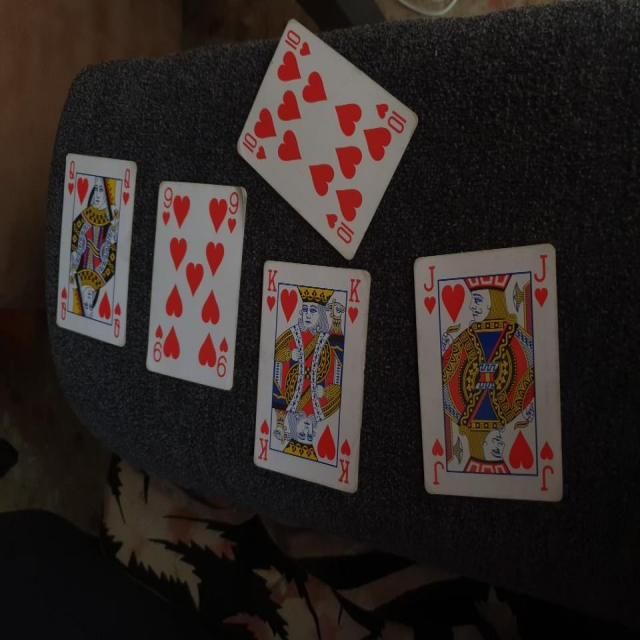10 Hearts: (224, 7, 422, 256)
9 Hearts: (138, 177, 258, 396)
J Hearts: (403, 236, 570, 514)
K Hearts: (249, 256, 378, 505)
Q Hearts: (44, 145, 143, 353)
